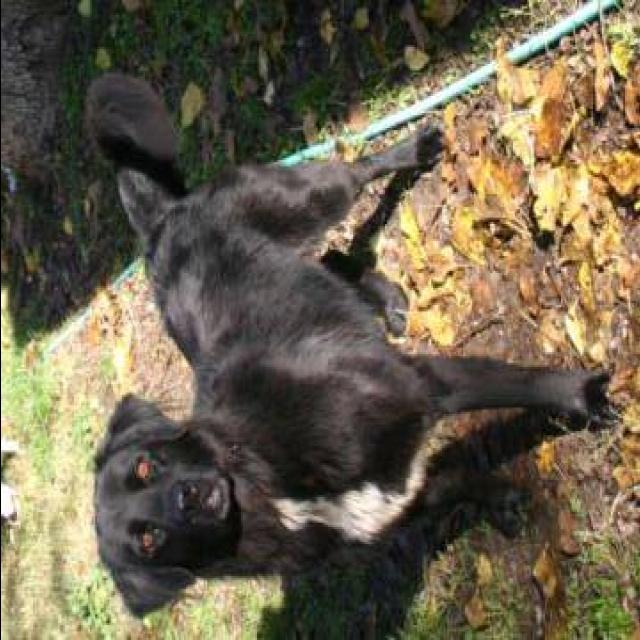dog: (45, 38, 602, 640)
